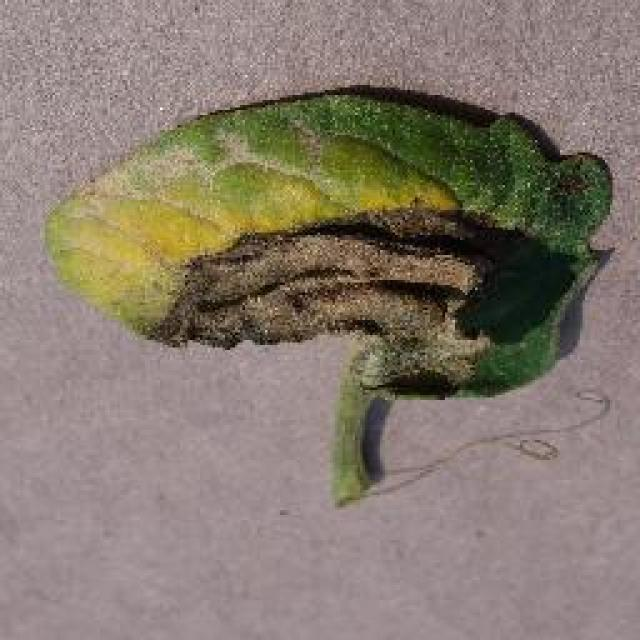Tomato late blight leaf: (45, 82, 620, 498)
